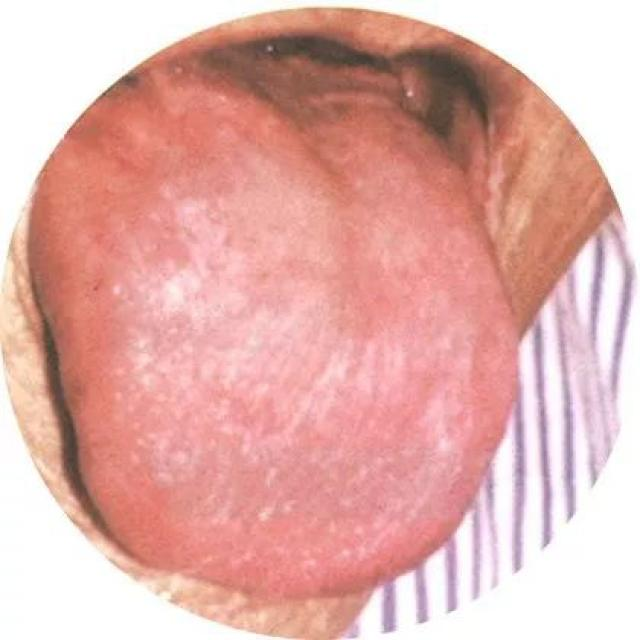tongue: (31, 80, 518, 598)
